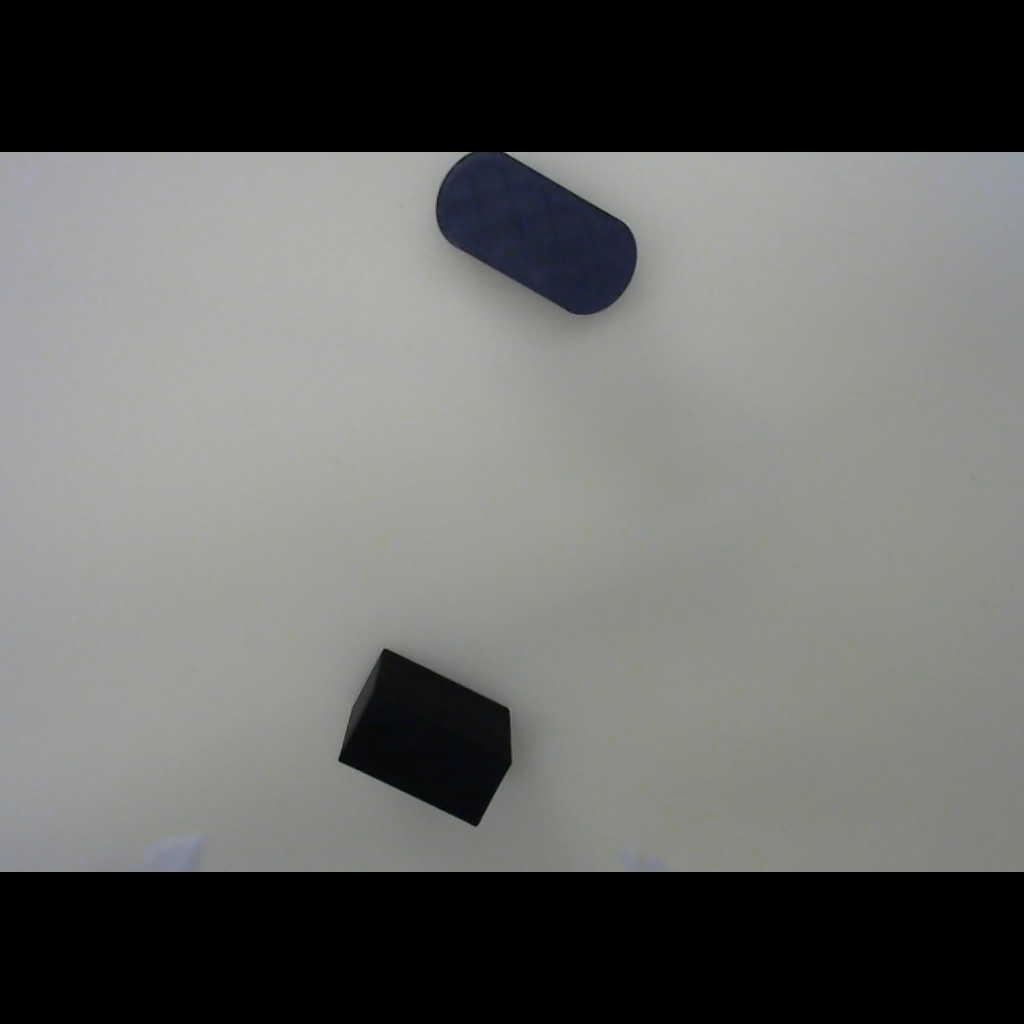oval: (456, 149, 675, 350)
rectangle: (310, 629, 549, 845)
